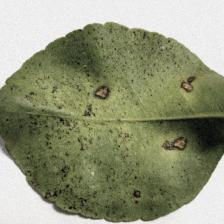canker: (53, 39, 195, 174)
